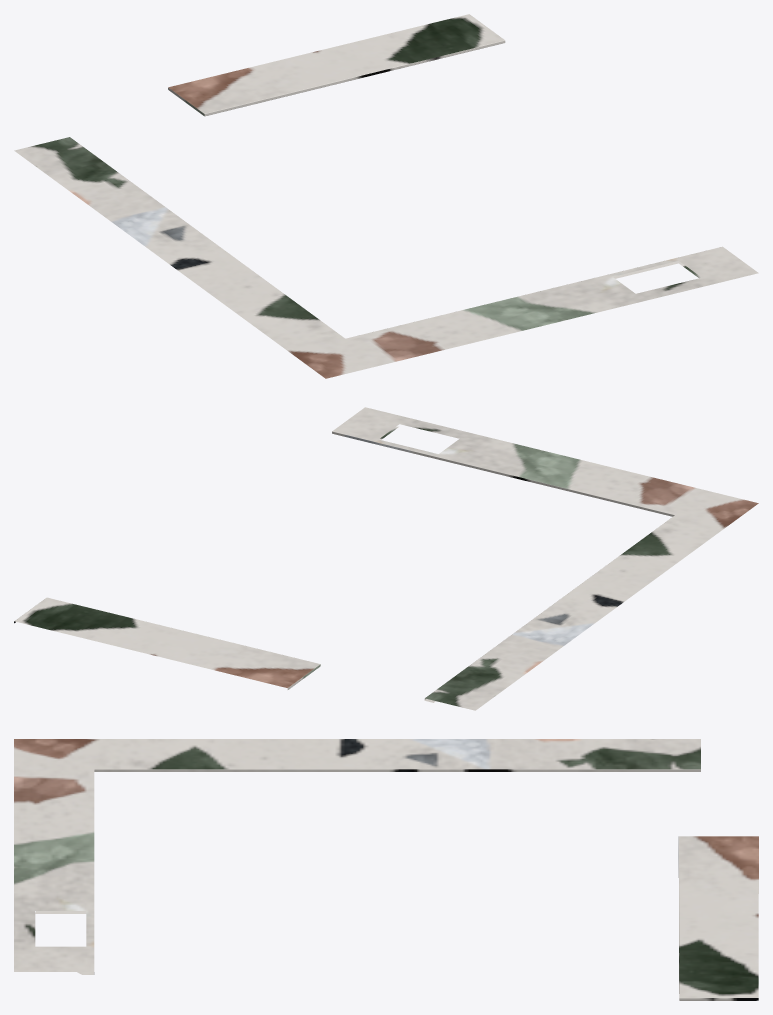
File: table-top.fbx
3 renders of one model, top to bottom at view 1: azimuth 30°, elevation 25°; view 2: azimuth 150°, elevation 25°; view 3: azimuth 270°, elevation 25°, orthographic. The views are drawn at different scales.
Parts seen in each view (by area): view 1: Cube_027_low; view 2: Cube_027_low; view 3: Cube_027_low.
Part boxes in pixels (x1,y1,x2,y2): Cube_027_low: (14, 14, 758, 378); Cube_027_low: (14, 407, 758, 710); Cube_027_low: (14, 739, 758, 1000).
Bounding box in the file's own units: 650 × 3.41 × 790.
